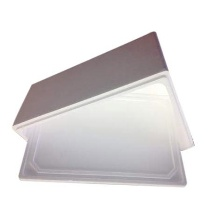foam_box: (8, 27, 198, 194)
